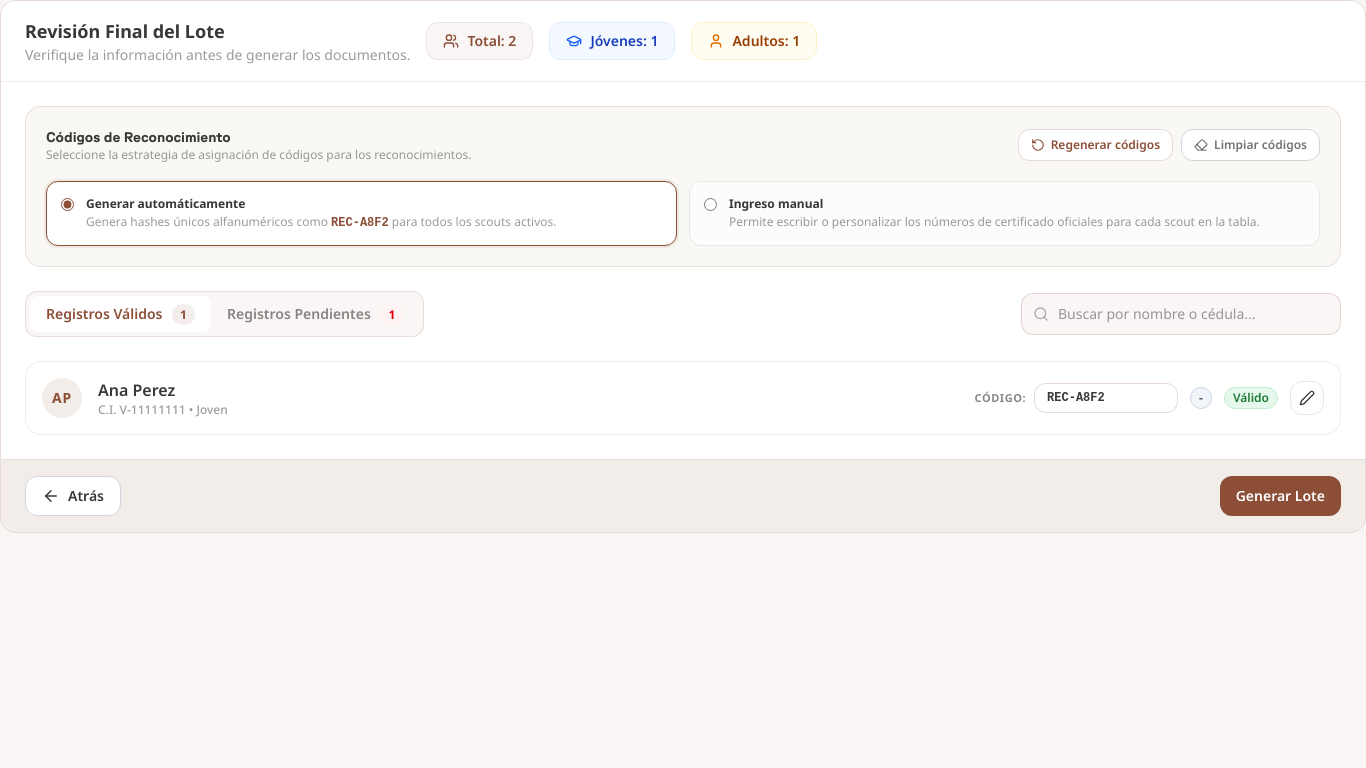
it: Step3Review component › switches between Valid and Pending tabs
The image size is (1366, 768).
Click Pending tab
Click the button "Registros Pendientes 1" at (315, 314), box [211,296,419,332]
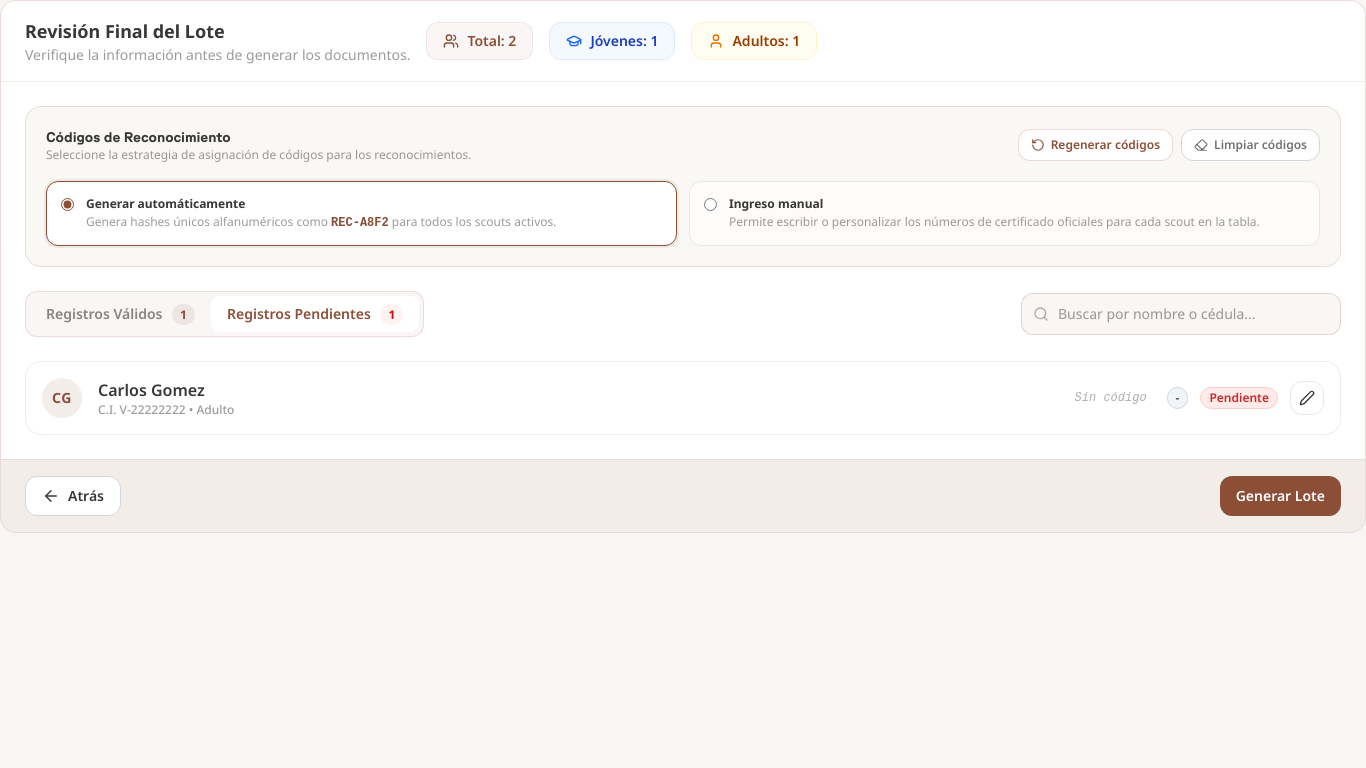
Result: the text "Carlos Gomez" is shown at [98,379,205,401]
Result: the text "Ana Perez" is gone
